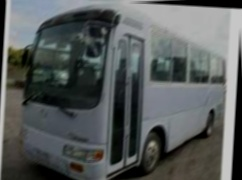bus: (19, 2, 231, 180)
